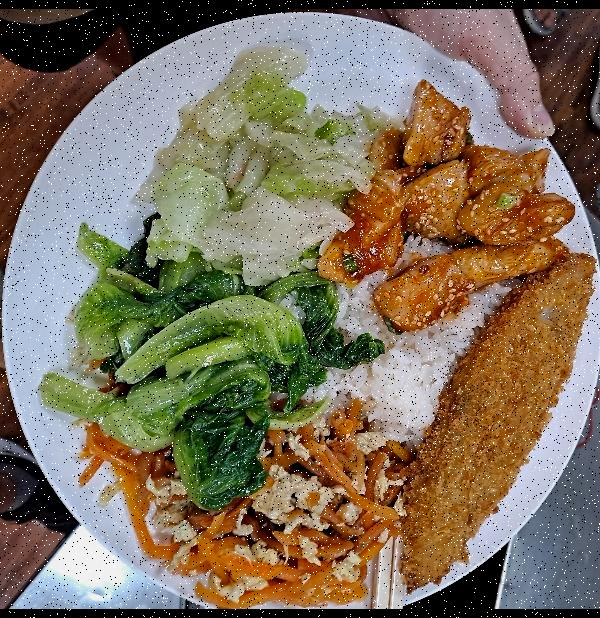fried cod steak: (390, 249, 600, 599)
plate: (0, 12, 600, 609)
side dish: (59, 256, 349, 506), (139, 38, 373, 276), (123, 415, 407, 607)
spicy chicken: (322, 84, 576, 332)
white rice: (309, 245, 526, 451)
